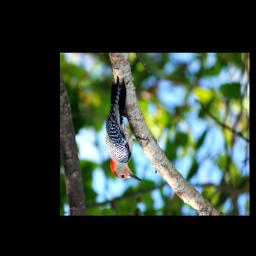Woodpecker: (105, 76, 150, 181)
